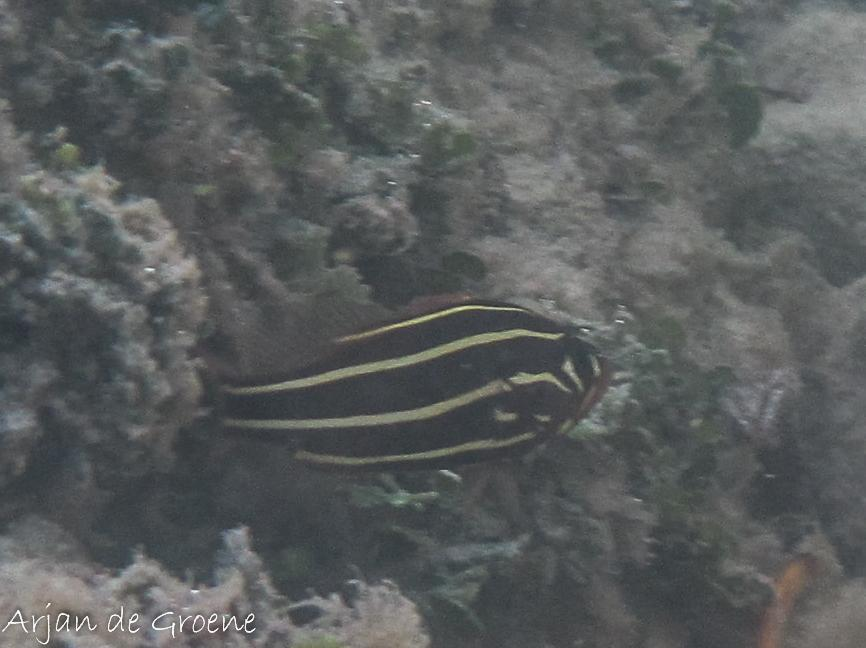Fish: (154, 285, 612, 507)
